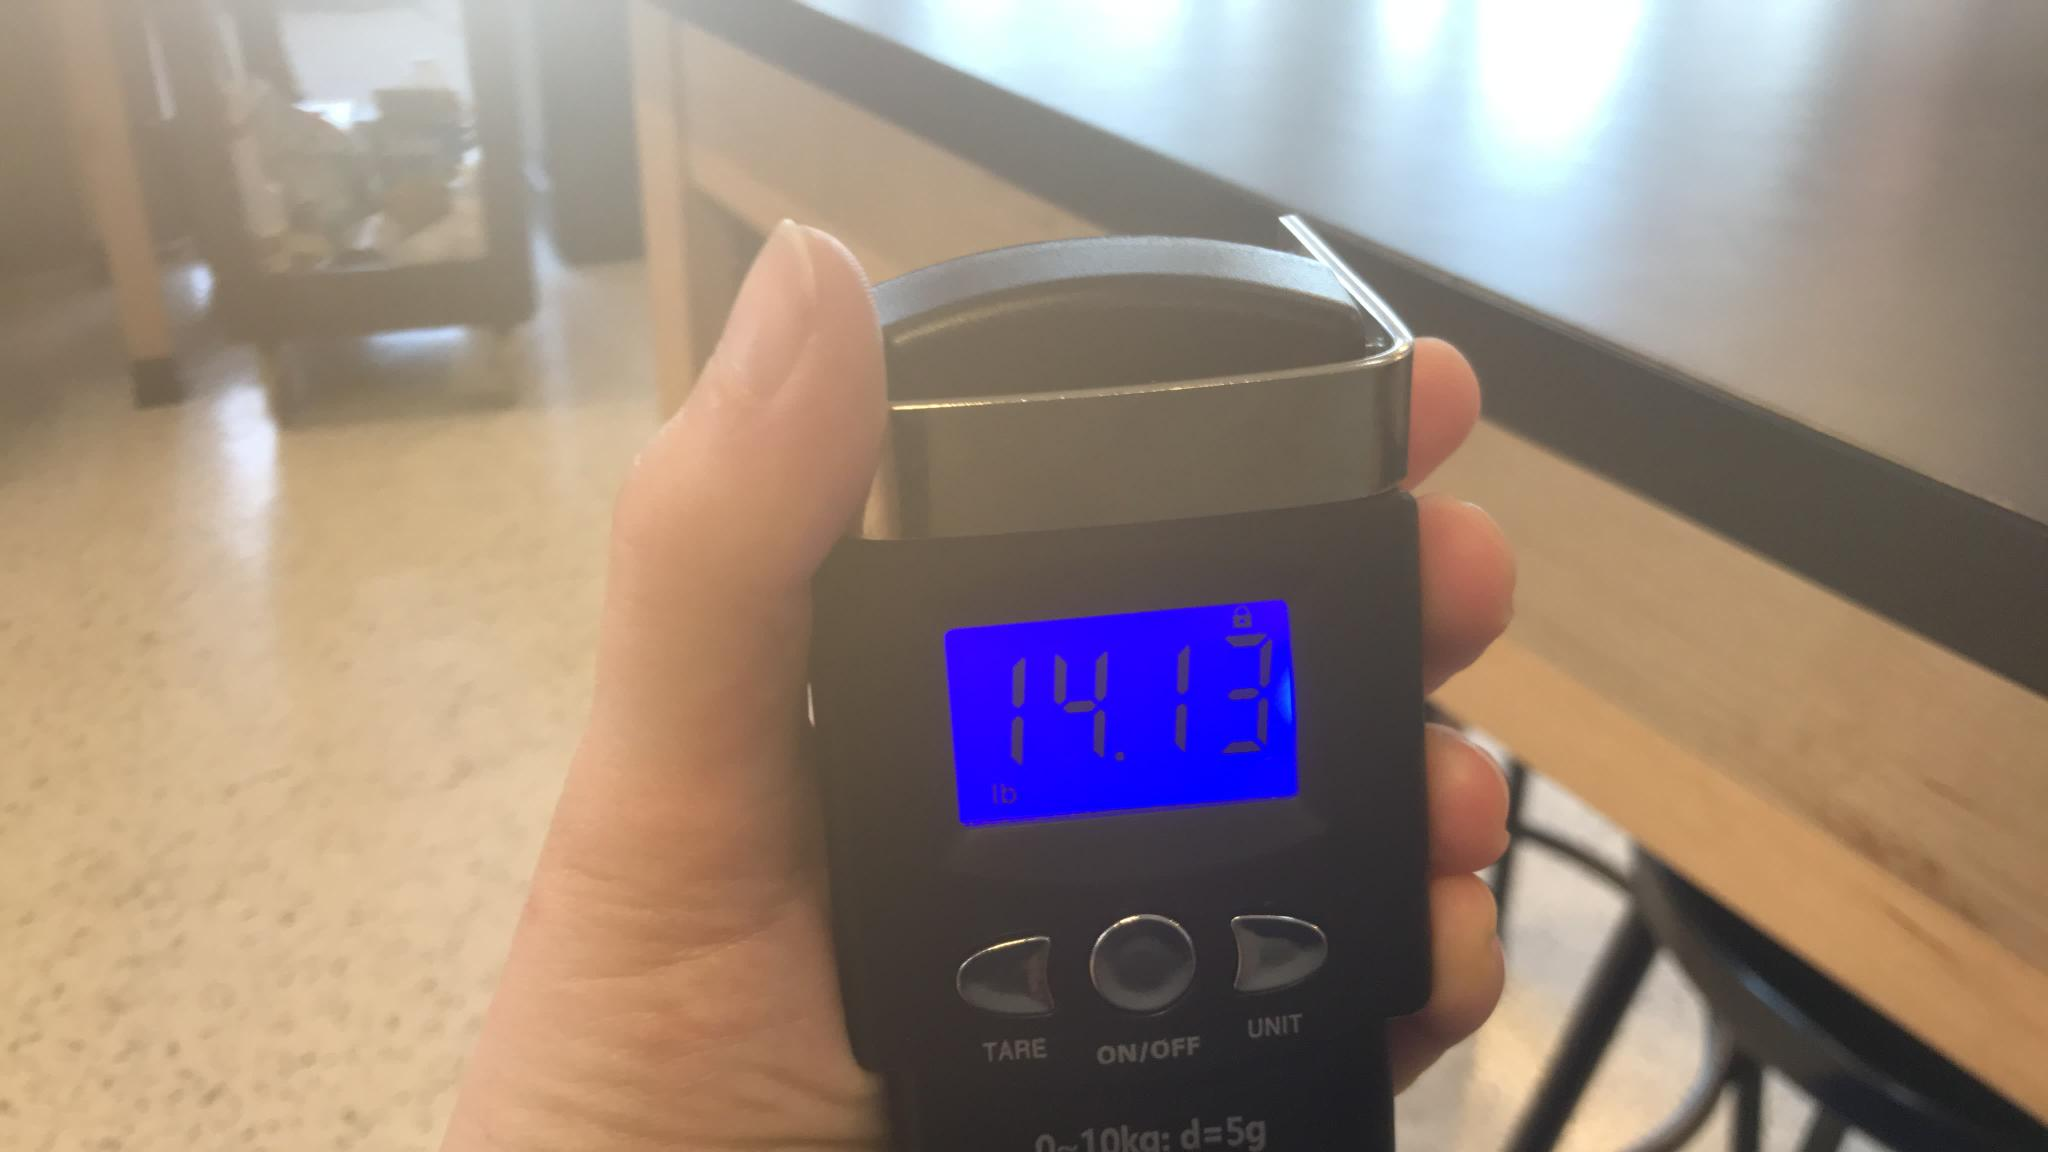LED-display: (916, 618, 1347, 800)
